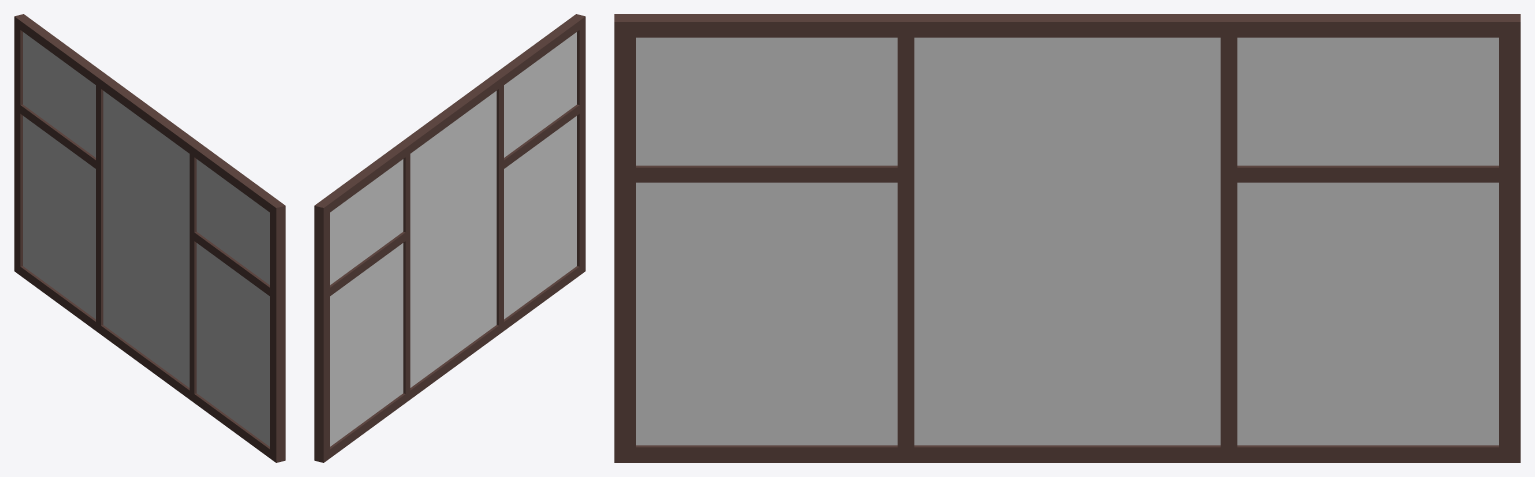
The model's file is window(2).fbx.
3 views of the same model, side by side, from view 1: azimuth 30°, elevation 25°; view 2: azimuth 150°, elevation 25°; view 3: azimuth 270°, elevation 25° (orthographic). The views are drawn at different scales.
Parts seen in each view (by area): view 1: glass, window frame; view 2: glass, window frame; view 3: glass, window frame.
Part boxes in pixels (bbox=[...]): glass: bbox=[23, 32, 269, 446]; window frame: bbox=[14, 14, 285, 462]; glass: bbox=[330, 32, 576, 446]; window frame: bbox=[314, 14, 585, 462]; glass: bbox=[636, 37, 1498, 445]; window frame: bbox=[614, 14, 1520, 462].
Size of the model in its own units: 19.32 by 494 by 920.
